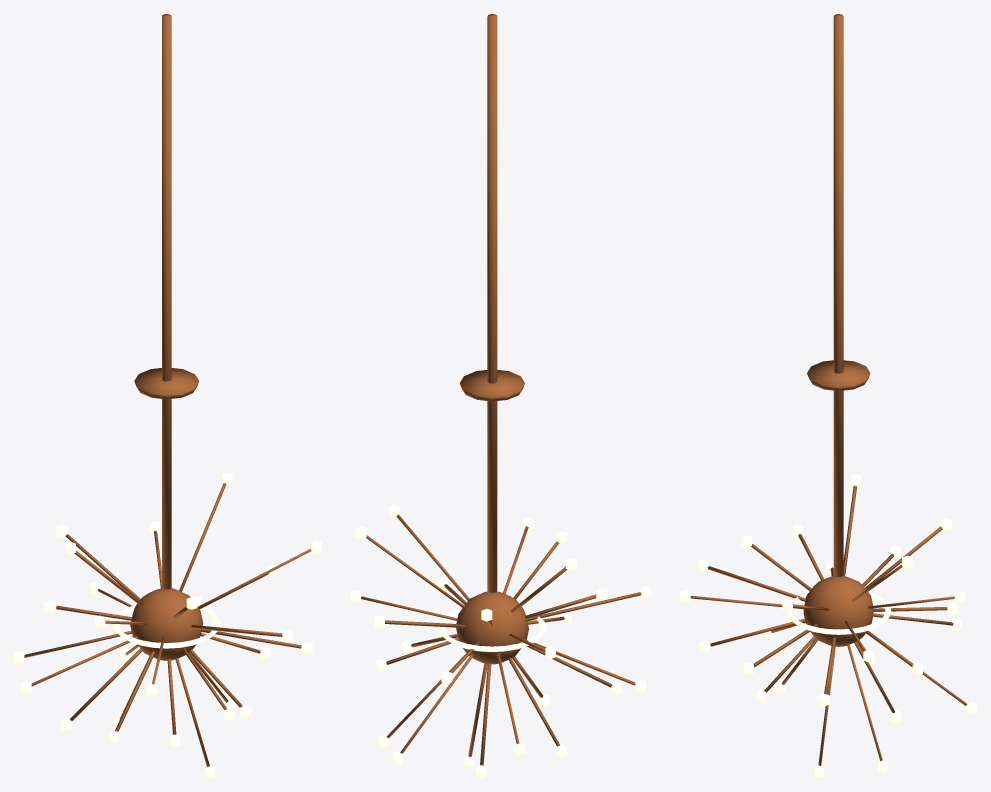
File: chandelier_starburst.glb
3 renders of one model, left to right at view 1: azimuth 30°, elevation 25°; view 2: azimuth 150°, elevation 25°; view 3: azimuth 270°, elevation 25°, orthographic. The views are drawn at different scales.
Parts seen in each view (by area): view 1: chandelier_starburst metal, chandelier_starburst lamp; view 2: chandelier_starburst metal, chandelier_starburst lamp; view 3: chandelier_starburst metal, chandelier_starburst lamp.
Part boxes in pixels (x1,y1,x2,y2): chandelier_starburst metal: (24, 14, 311, 766); chandelier_starburst lamp: (14, 472, 321, 777); chandelier_starburst metal: (361, 14, 641, 765); chandelier_starburst lamp: (350, 505, 651, 777); chandelier_starburst metal: (690, 14, 967, 766); chandelier_starburst lamp: (680, 474, 976, 777).
Bounding box in the file's own units: 3.16 × 8.27 × 2.98.
